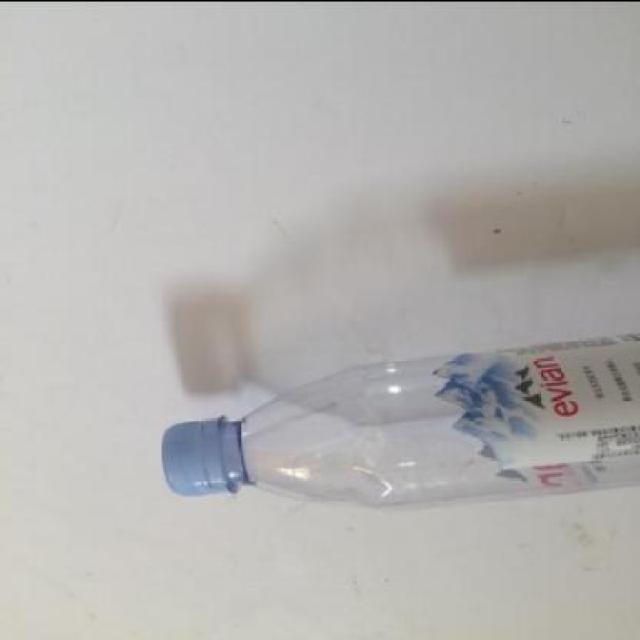PLASTIC: (160, 331, 638, 507), (162, 419, 238, 496)
